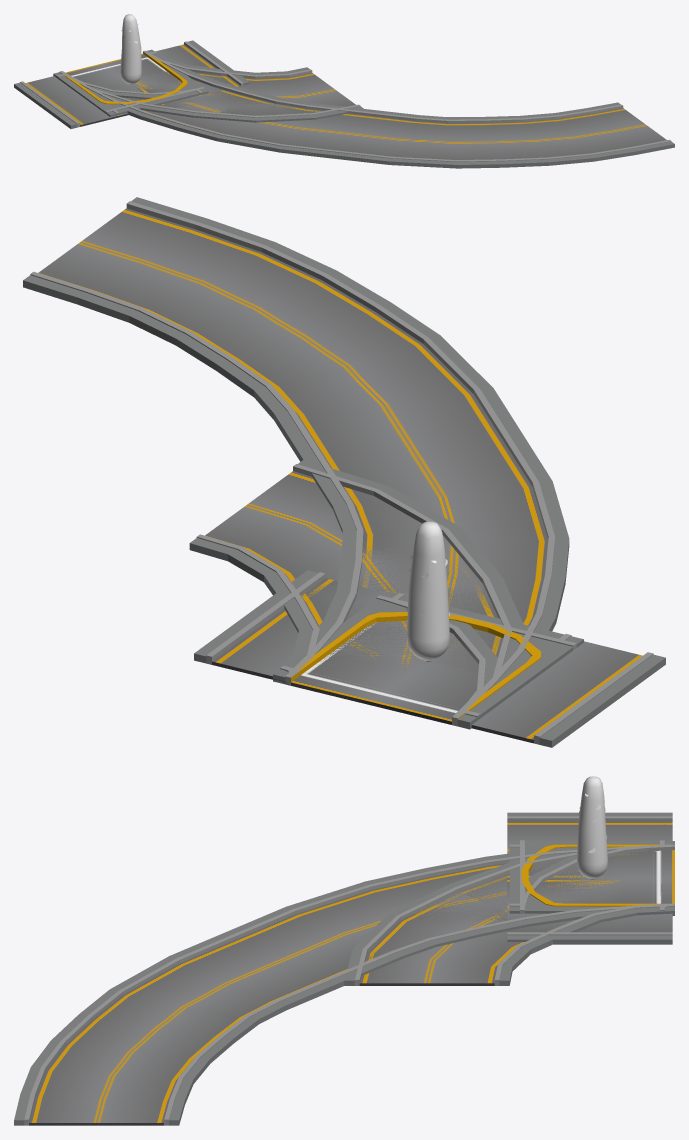
File: RoadStraightfbx.fbx
The picture shows the model from 3 angles, top to bottom: view 1: azimuth 30°, elevation 25°; view 2: azimuth 150°, elevation 25°; view 3: azimuth 270°, elevation 25°; orthographic projection. The views are drawn at different scales.
Parts seen in each view (by area): view 1: Road1_Curve4, Road1_Curve3, Road1_Curve2, RoadBas, RoadHaut, Road2_T, Road6_End, Tree4, Road1_Curve1, Road10_90angle_Corner; view 2: Road1_Curve4, Road1_Curve3, Road1_Curve2, RoadBas, Road2_T, RoadHaut, Road1_Curve1, Road6_End, Tree4, Road10_90angle_Corner, Road2_X; view 3: Road1_Curve4, Road1_Curve2, Road1_Curve3, RoadHaut, RoadBas, Road2_T, Road1_Curve1, Road6_End, Tree4, Road10_90angle_Corner.
Part boxes in pixels (left/top/right/bottom): Road1_Curve4: left=60, top=69, right=674, bottom=168; Road1_Curve3: left=60, top=54, right=363, bottom=122; Road1_Curve2: left=63, top=52, right=308, bottom=151; RoadBas: left=14, top=76, right=159, bottom=128; RoadHaut: left=135, top=40, right=249, bottom=105; Road2_T: left=54, top=49, right=208, bottom=116; Road6_End: left=53, top=51, right=208, bottom=116; Tree4: left=120, top=14, right=141, bottom=84; Road1_Curve1: left=62, top=51, right=221, bottom=115; Road10_90angle_Corner: left=75, top=52, right=205, bottom=99; Road1_Curve4: left=23, top=197, right=569, bottom=713; Road1_Curve3: left=189, top=460, right=526, bottom=719; Road1_Curve2: left=276, top=482, right=569, bottom=712; RoadBas: left=442, top=629, right=665, bottom=747; Road2_T: left=273, top=599, right=583, bottom=729; RoadHaut: left=194, top=570, right=456, bottom=679; Road1_Curve1: left=274, top=578, right=526, bottom=727; Road6_End: left=273, top=593, right=583, bottom=729; Tree4: left=406, top=521, right=449, bottom=661; Road10_90angle_Corner: left=273, top=598, right=497, bottom=715; Road2_X: left=336, top=591, right=583, bottom=728; Road1_Curve4: left=14, top=843, right=674, bottom=1125; Road1_Curve2: left=286, top=842, right=674, bottom=958; Road1_Curve3: left=344, top=842, right=674, bottom=985; RoadHaut: left=507, top=878, right=672, bottom=944; RoadBas: left=507, top=812, right=672, bottom=878; Road2_T: left=520, top=840, right=674, bottom=910; Road1_Curve1: left=448, top=842, right=674, bottom=932; Road6_End: left=509, top=841, right=659, bottom=913; Tree4: left=577, top=776, right=607, bottom=879; Road10_90angle_Corner: left=509, top=841, right=667, bottom=913.
Size of the model in its own units: 5289 by 825 by 4800.
5 materials, 4 textured.
